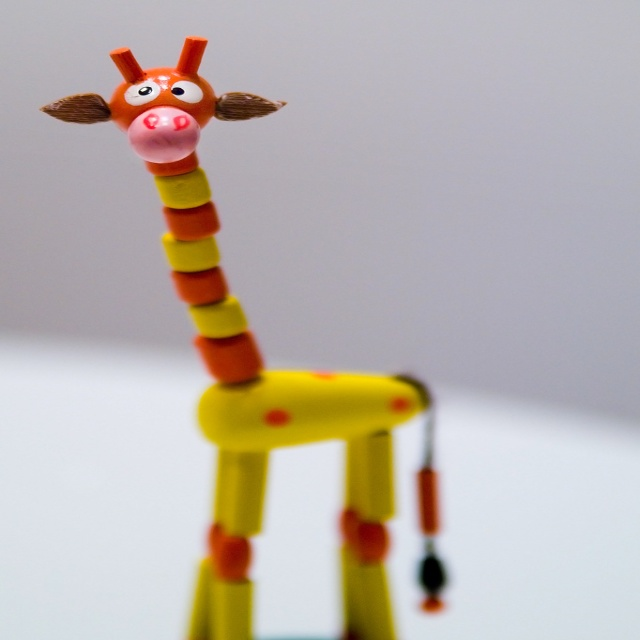Giraffe: (89, 96, 445, 624)
